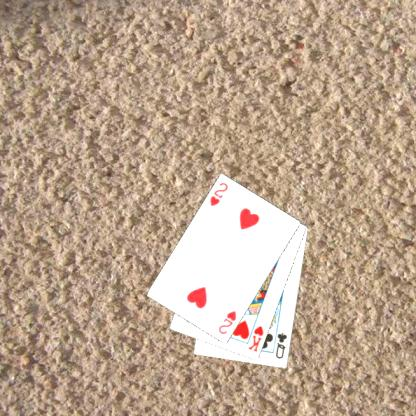2H: (207, 180, 230, 208), (216, 308, 238, 336)
KH: (246, 323, 265, 353)
QC: (273, 330, 289, 360)
